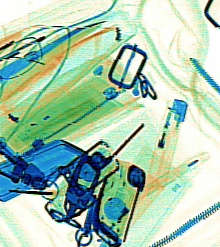lighter: (142, 98, 187, 184)
